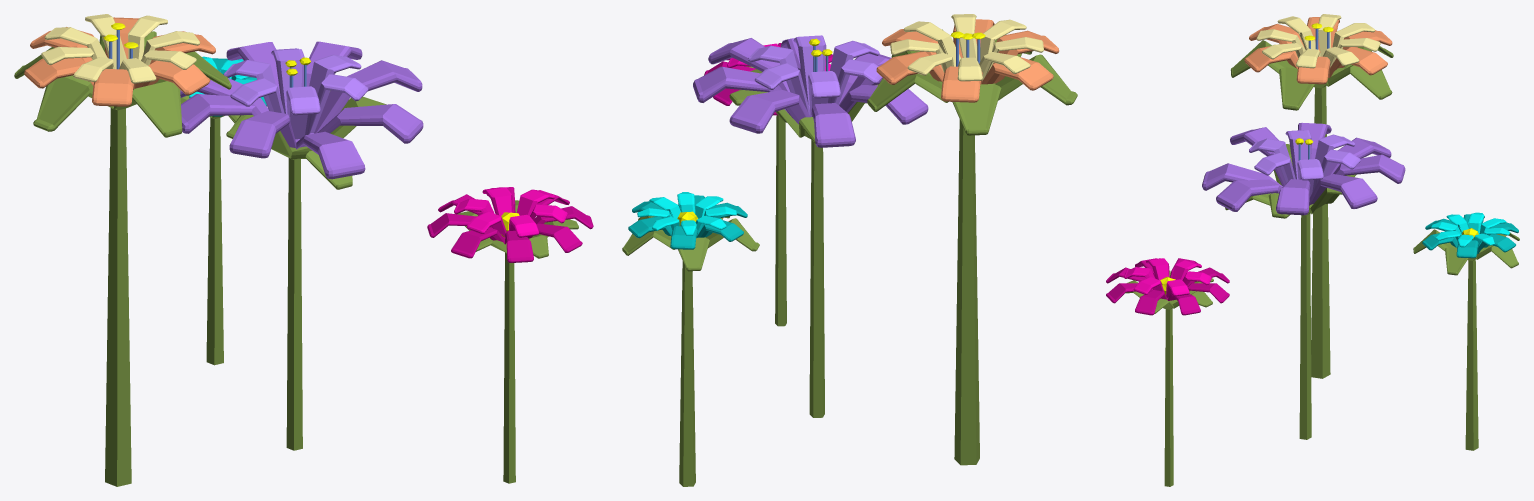
Rendered from flower_03.fbx.
3 renders of one model, left to right at view 1: azimuth 30°, elevation 25°; view 2: azimuth 150°, elevation 25°; view 3: azimuth 270°, elevation 25°, orthographic. The views are drawn at different scales.
Visible parts, largest first — view 1: Flower_Group_03; view 2: Flower_Group_03; view 3: Flower_Group_03.
Boxes of the visible parts, x1,y1,x2,y2 form: Flower_Group_03: [14, 14, 593, 486]; Flower_Group_03: [622, 14, 1077, 486]; Flower_Group_03: [1106, 14, 1519, 486].
Size of the model in its own units: 73.02 by 68.31 by 73.57.
